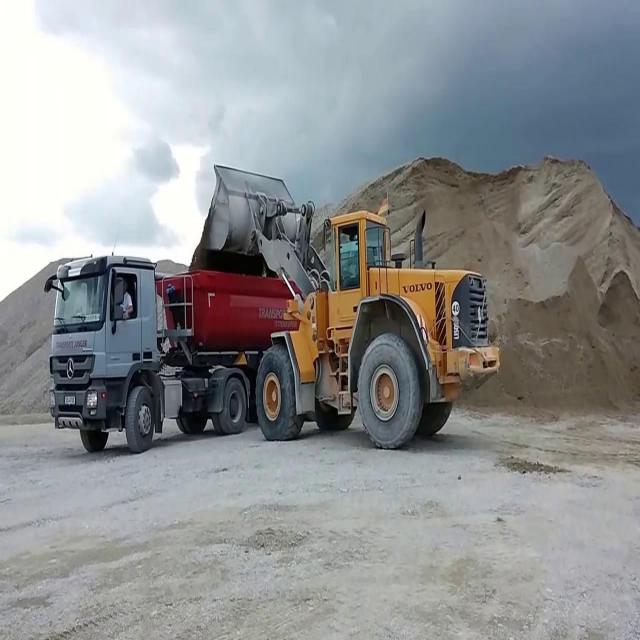Dump Truck: (42, 252, 304, 456)
Loader: (189, 162, 500, 447)
